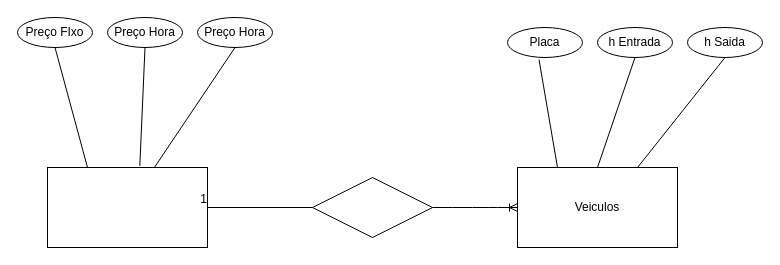
Image size: 780x265. Some labels were removed from this diagram. The centre of each missing label's shape, as x and y in pixels:
"Estacionamento" belongs at (127,207).
"Tem" belongs at (372,207).
